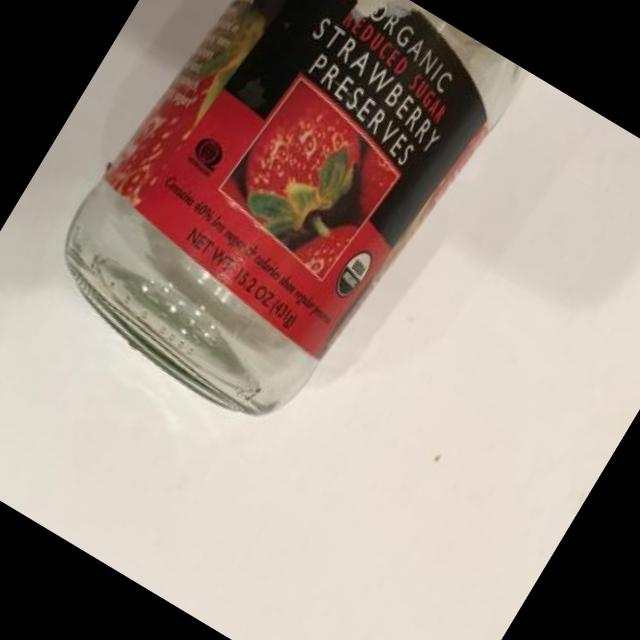BotolKaca: (26, 0, 530, 459)
